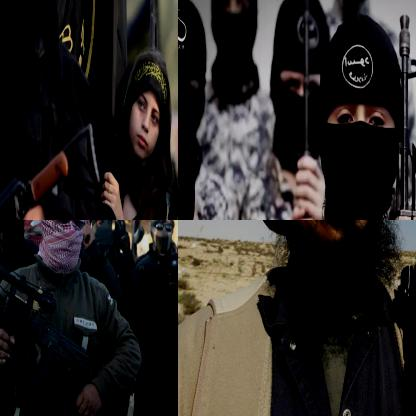rifle: (294, 12, 415, 219), (0, 256, 82, 406), (0, 121, 102, 219)
